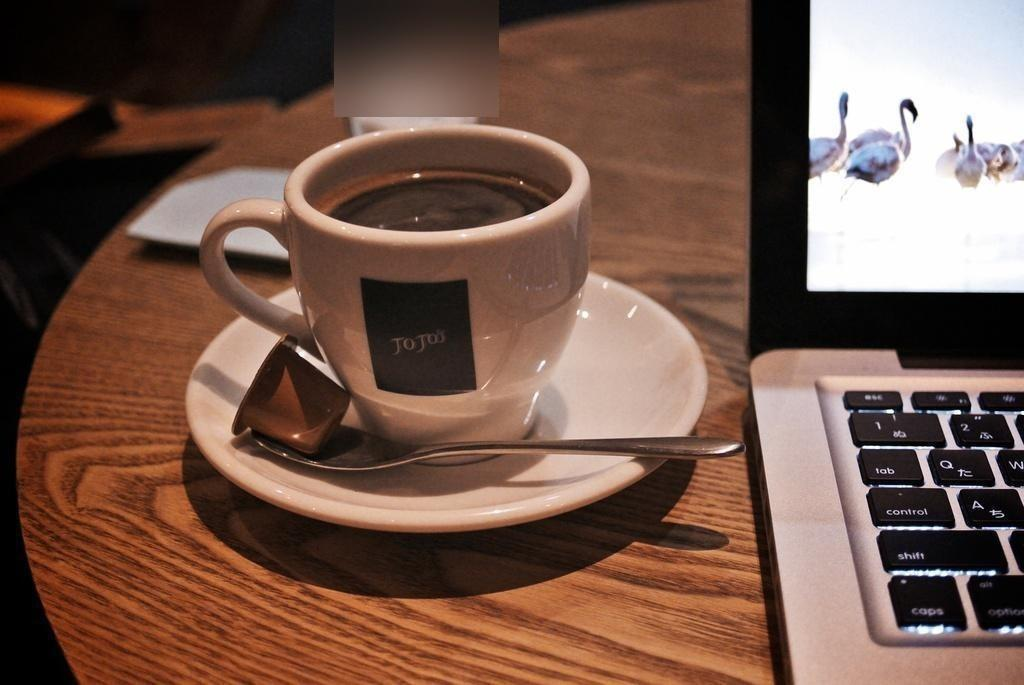cup-handle: (195, 122, 595, 468)
